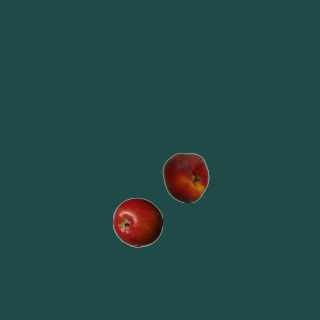Apple Braeburn: (112, 197, 162, 247)
Nectarine Flat: (160, 152, 210, 202)
